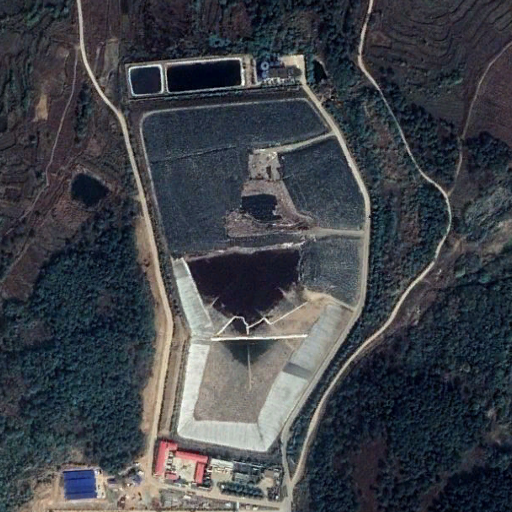lf: (118, 97, 368, 455)
